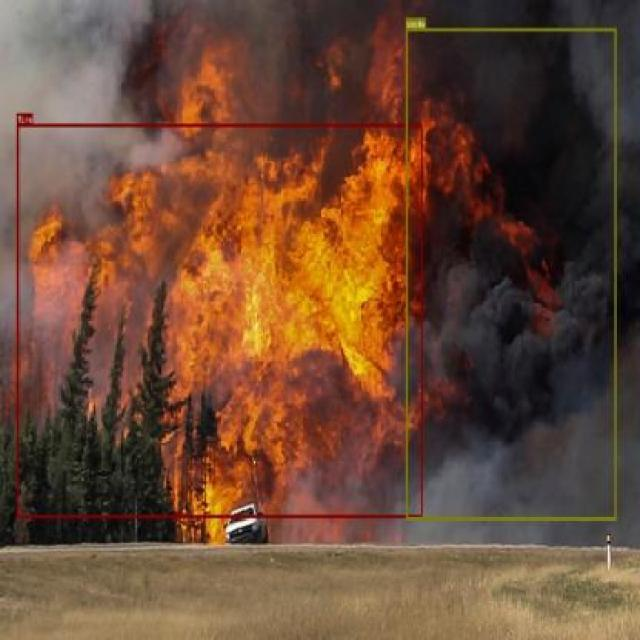fire: (16, 123, 422, 517)
smoke: (406, 28, 616, 520)
